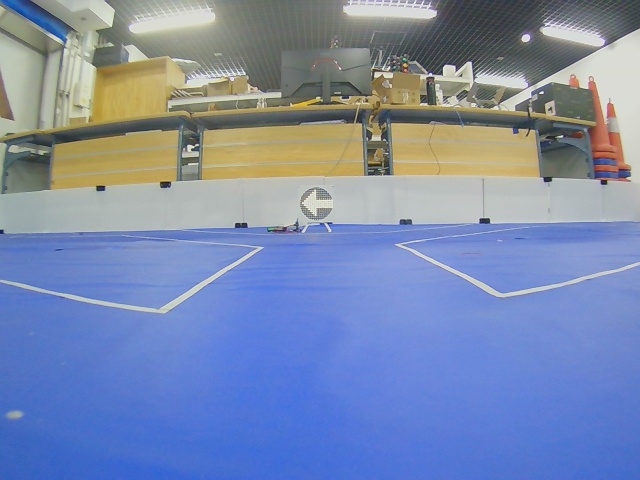left_yellow: (301, 187, 334, 220)
